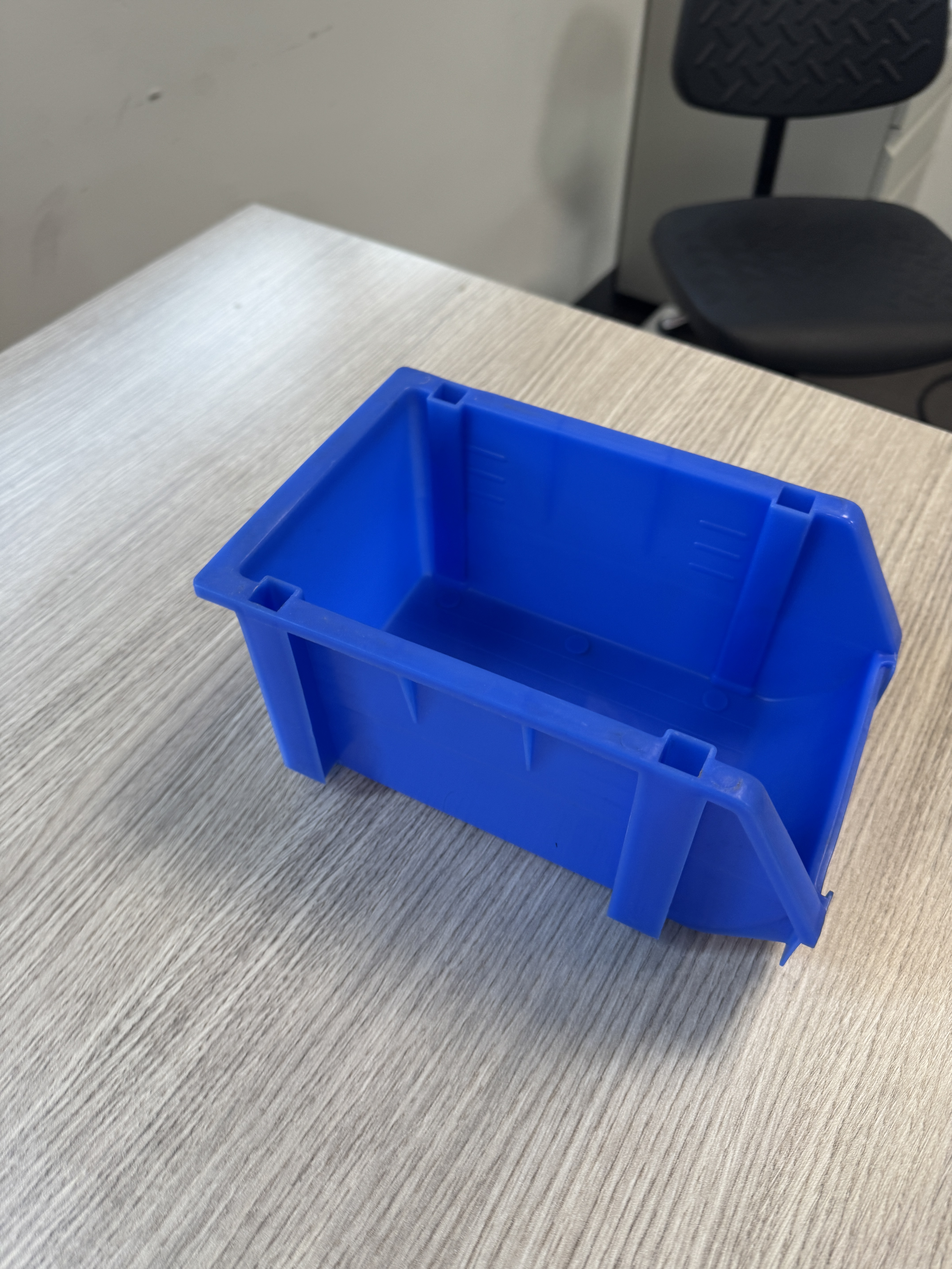Bin Boundary: (226, 278, 952, 896)
